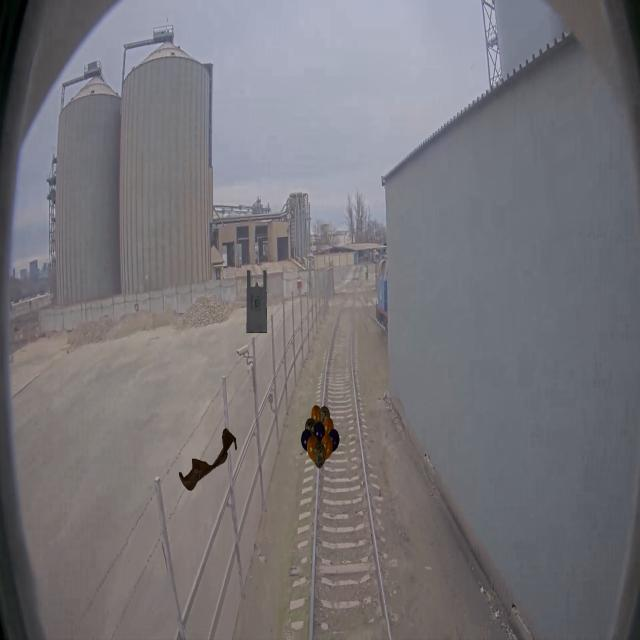balloon: (300, 404, 340, 468)
floating object: (179, 428, 237, 492)
plastic bag: (246, 270, 267, 334)
